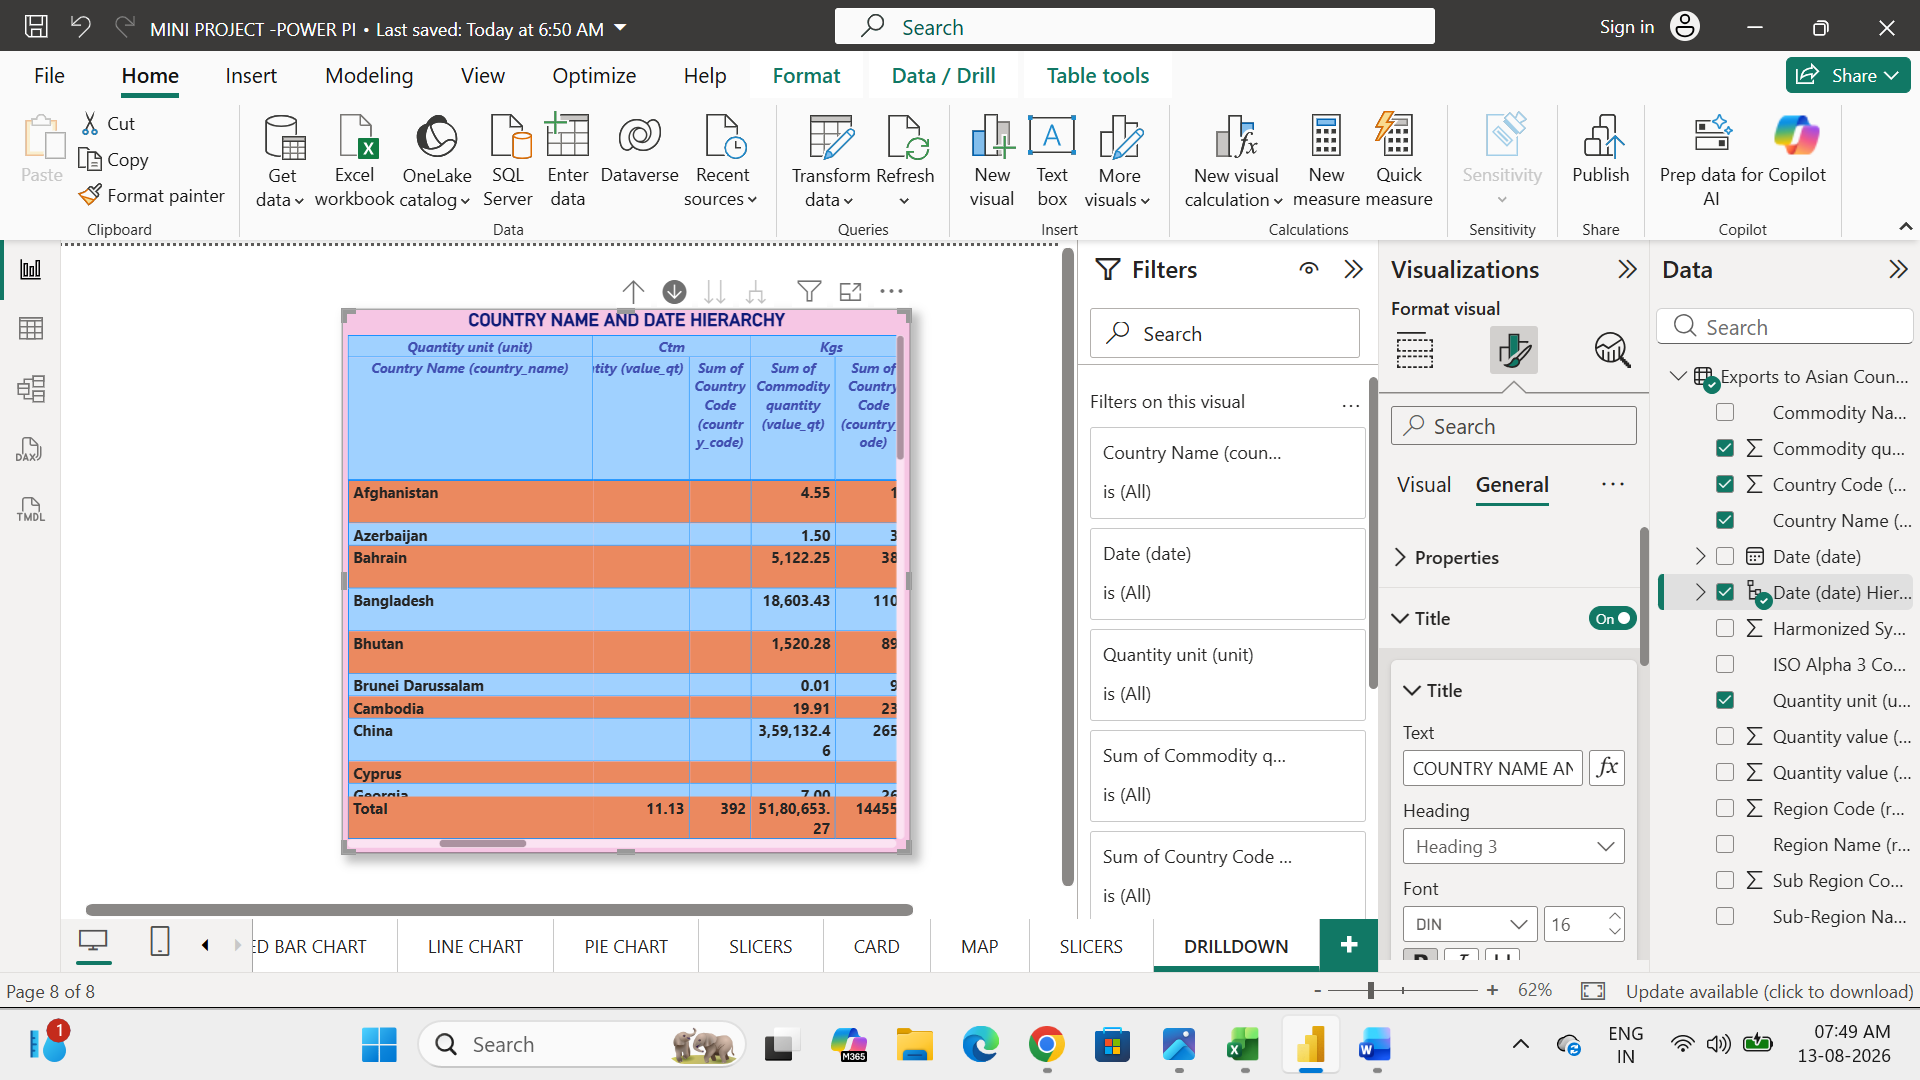

This screenshot's page, from the dashboard's own definition file:
{"tool":"powerbi","page":{"name":"DRILLDOWN","canvas":[1280,720],"ordinal":7},"visuals":[{"type":"pivotTable","title":"COUNTRY NAME AND DATE HIERARCHY","fields":{"Rows":["Exports to Asian Countries_Samp.Date (date) Hierarchy.Date (date)","Exports to Asian Countries_Samp.Country Name (country_name)"],"Columns":["Exports to Asian Countries_Samp.Quantity unit (unit)"],"Values":["Sum(Exports to Asian Countries_Samp.Commodity quantity (value_qt))","Sum(Exports to Asian Countries_Samp.Country Code (country_code))"]},"box":[319.4,67.7,611.3,585.5],"z":0}]}

Visuals, with their boxes on the page's 1280x720 design canvas (x1, y1, x2, y2). These are canvas units, not pixel positions in the 1920x1080 screenshot, which may show the page scaled, cropped or inside an application window:
"COUNTRY NAME AND DATE HIERARCHY" pivotTable: 319/68/931/653
